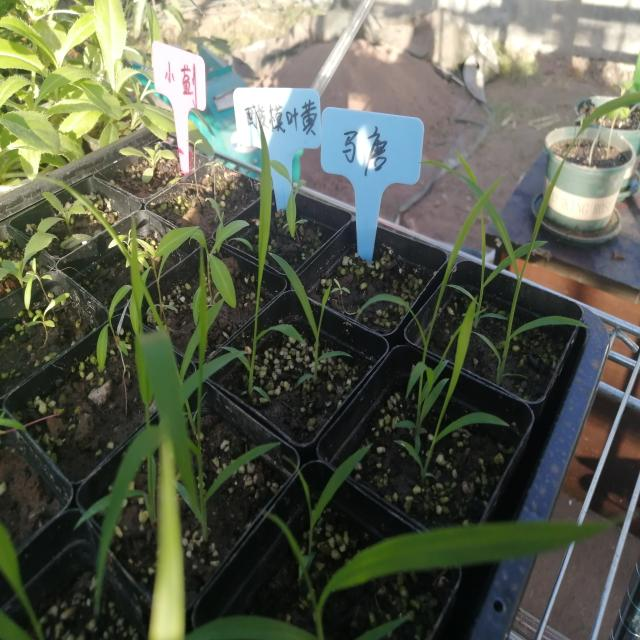crabgrass: (111, 270, 249, 523), (382, 203, 496, 464), (225, 119, 316, 375)
